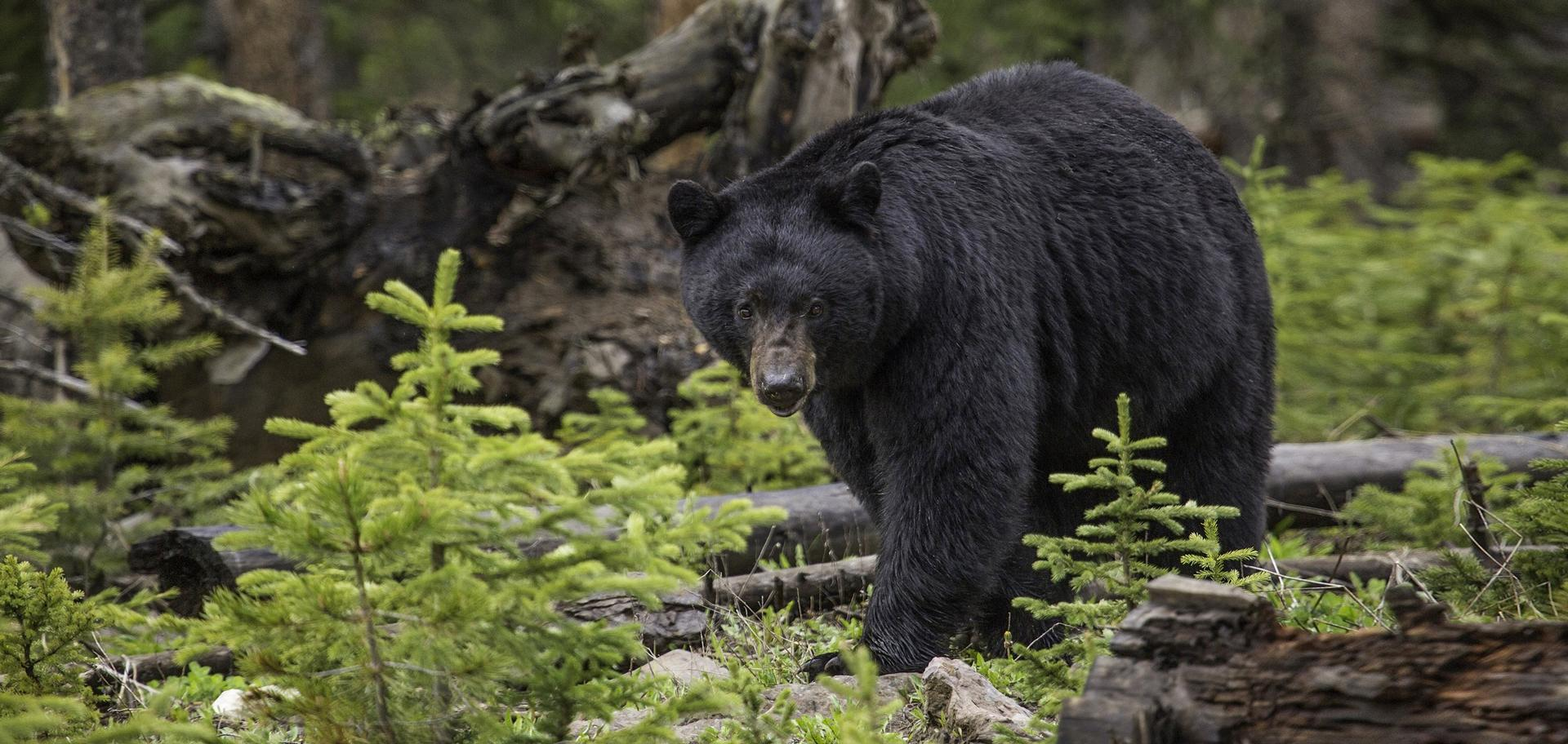ball: (669, 63, 1273, 670)
